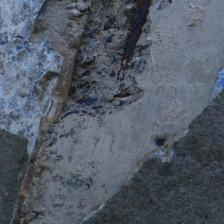Crack: (86, 93, 221, 222), (34, 1, 143, 130)
